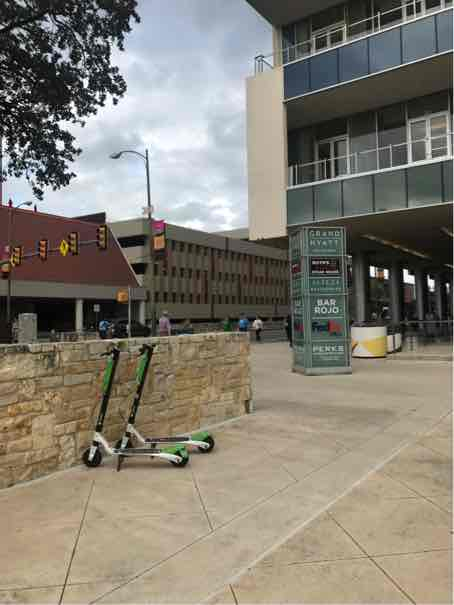scooter: (73, 332, 173, 485)
